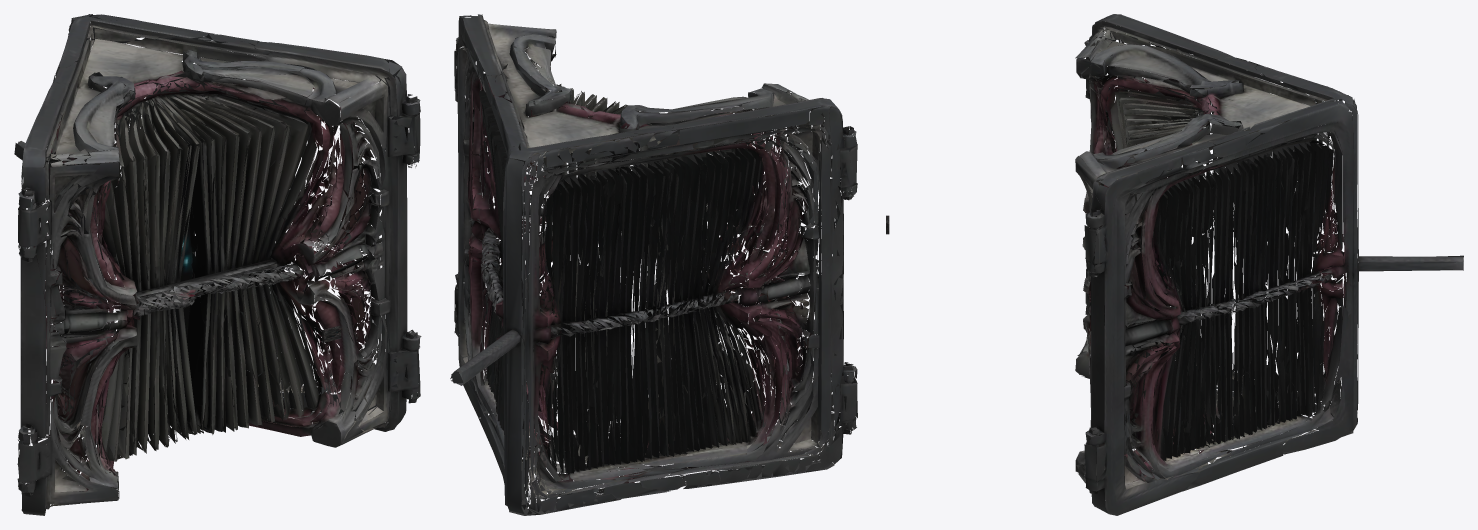
File: vey_refusal_silence_baffle.glb
3 renders of one model, left to right at view 1: azimuth 30°, elevation 25°; view 2: azimuth 150°, elevation 25°; view 3: azimuth 270°, elevation 25°, orthographic. The views are drawn at different scales.
Parts seen in each view (by area): view 1: node_0; view 2: node_0; view 3: node_0.
Part boxes in pixels (x1=…): node_0: x1=14, y1=14, x2=421, y2=515; node_0: x1=450, y1=14, x2=857, y2=515; node_0: x1=1075, y1=14, x2=1463, y2=515.
Size of the model in its own units: 0.8167 by 0.7104 by 1.1.
Materials: 1 (1 with a texture image).
